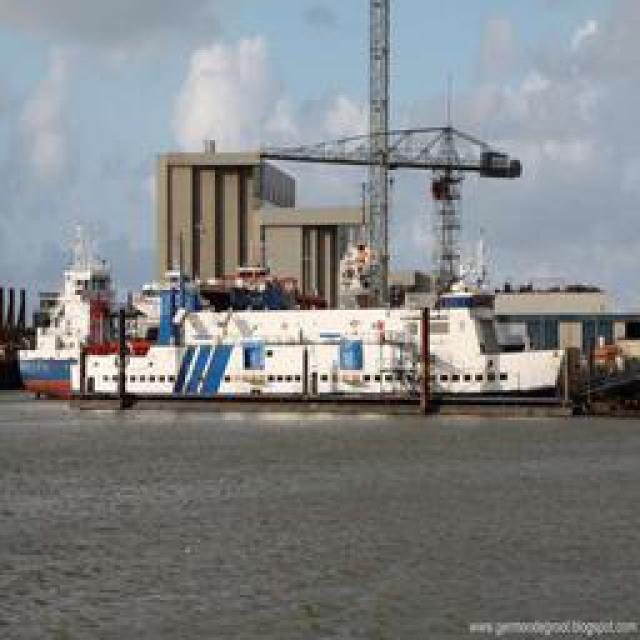Ship: (16, 248, 594, 410)
